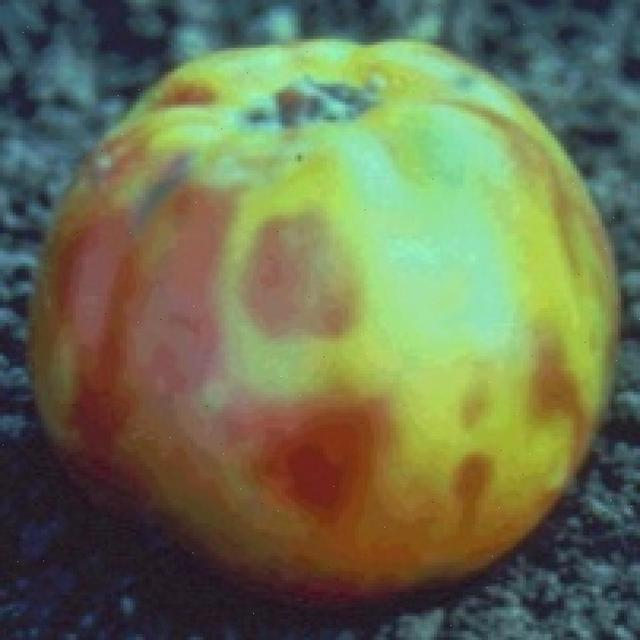Spotted wilt Virus Fruit: (95, 0, 146, 97)
